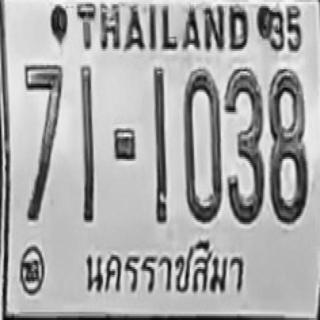N00: (184, 69, 222, 222)
N01: (152, 67, 168, 220), (80, 67, 95, 220), (153, 67, 167, 202)
N03: (224, 68, 264, 225)
N07: (24, 63, 63, 220)
N08: (269, 68, 308, 223)
P30: (78, 231, 253, 302)
